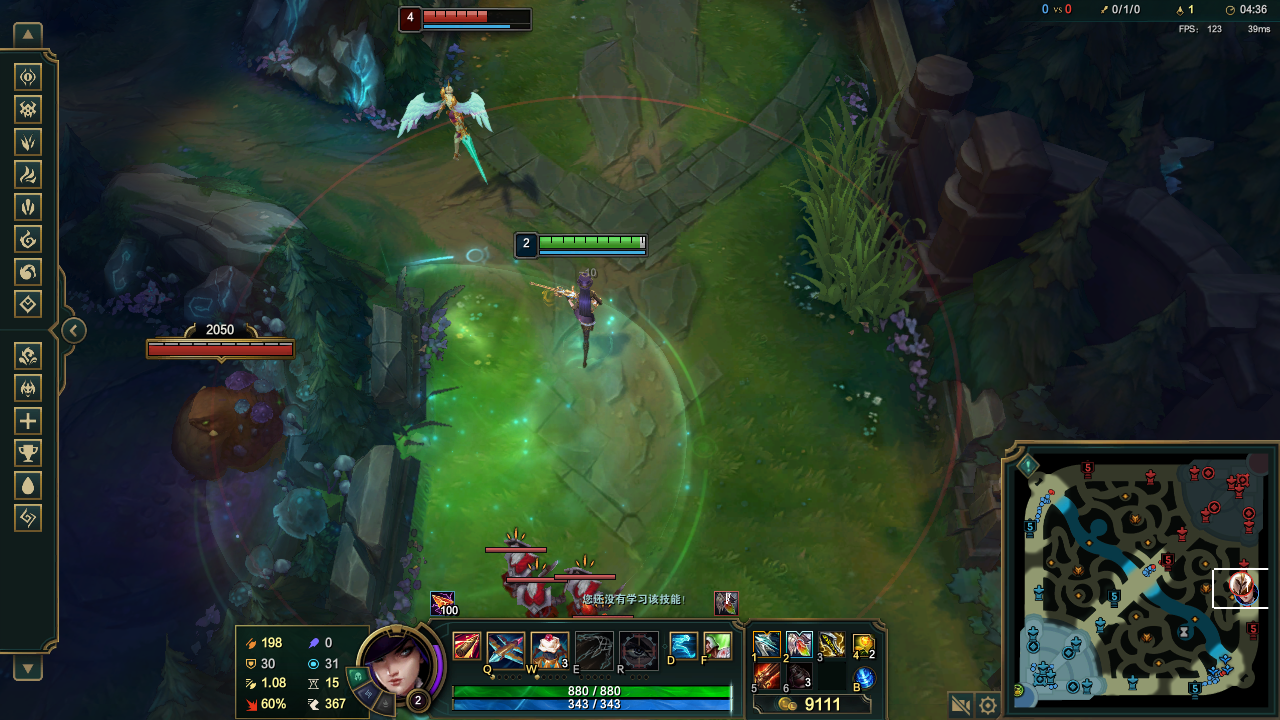DFYX: (421, 10, 531, 25)
